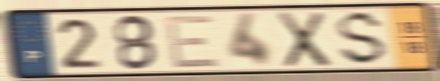2: (54, 16, 105, 71)
4: (225, 9, 275, 71)
8: (112, 13, 159, 72)
E: (163, 13, 223, 70)
S: (336, 8, 390, 68)
X: (275, 10, 333, 70)
